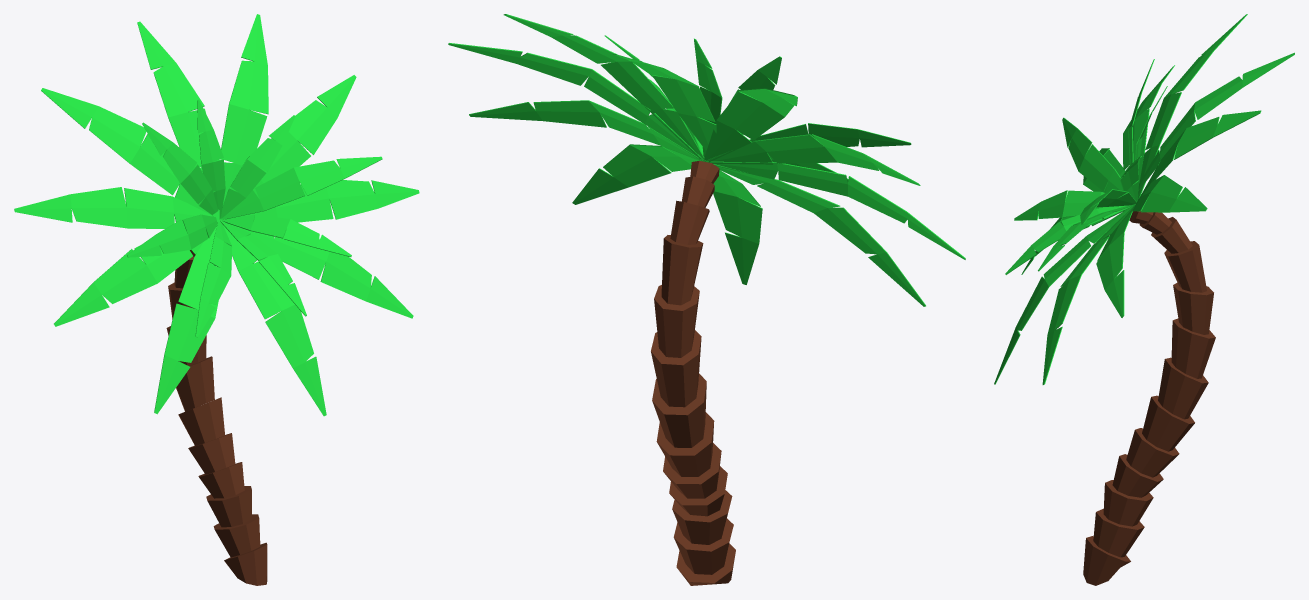
File: Palme2.fbx
3 views of the same model, side by side, from view 1: azimuth 30°, elevation 25°; view 2: azimuth 150°, elevation 25°; view 3: azimuth 270°, elevation 25° (orthographic). The views are drawn at different scales.
Parts seen in each view (by area): view 1: Palme; view 2: Palme; view 3: Palme.
Boxes of the visible parts, left/top/right/bottom form: Palme: left=14, top=14, right=419, bottom=585; Palme: left=448, top=14, right=965, bottom=585; Palme: left=994, top=14, right=1294, bottom=585.
Bounding box in the file's own units: 6.77 × 8.44 × 4.46.
